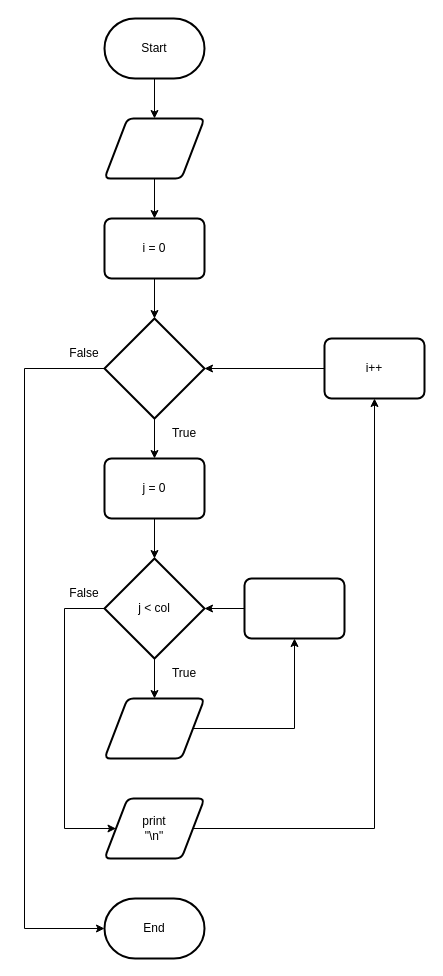
Some shapes in this 443 by 976 pixel diagram are drawn without their labels. Here are the shapes that lost their labels. From the top down, the centre of each, then its label:
point (154, 148): input row col
point (154, 368): i < row
point (294, 608): j++
point (154, 728): print "A "
